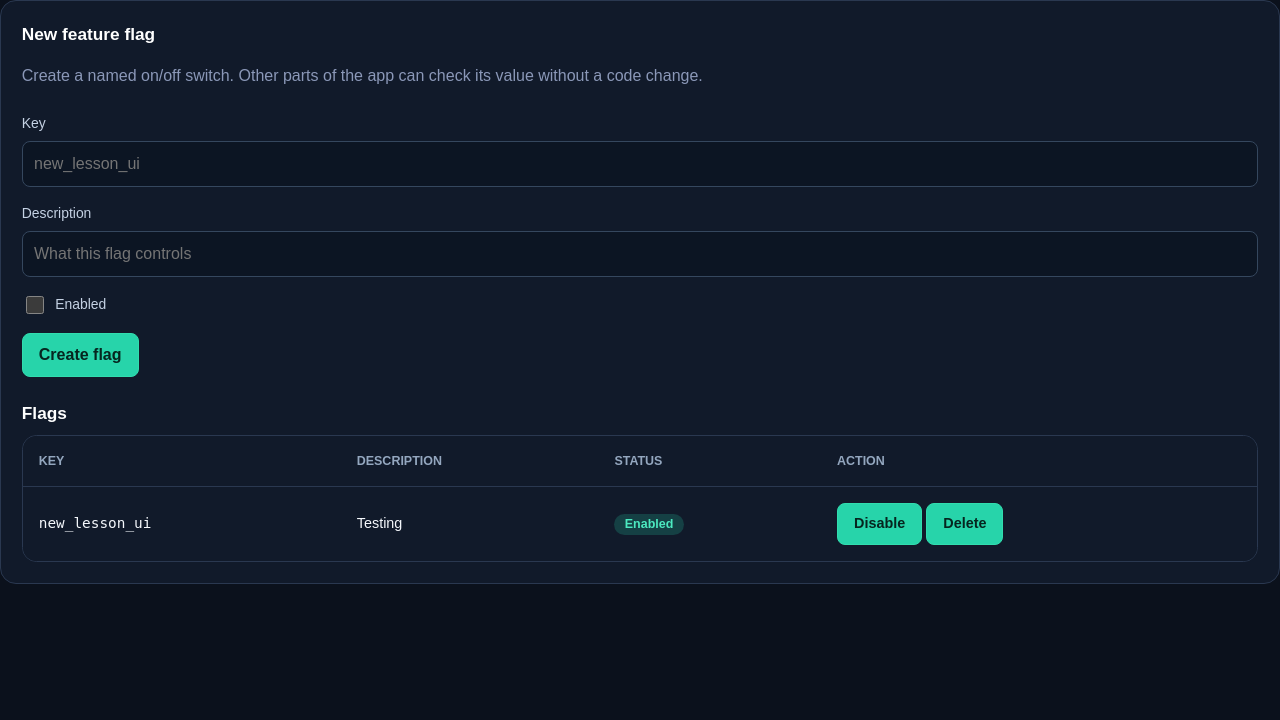
it: FeatureFlagsManager › lists an existing flag with a toggle and delete action
The width and height of the screenshot is (1280, 720).
Expected: the text "new_lesson_ui" is shown, [39,515,151,531]
Expected: the text "Testing" is shown, [341,487,598,561]
Click the button "Disable": (880, 524) [837,503,922,545]
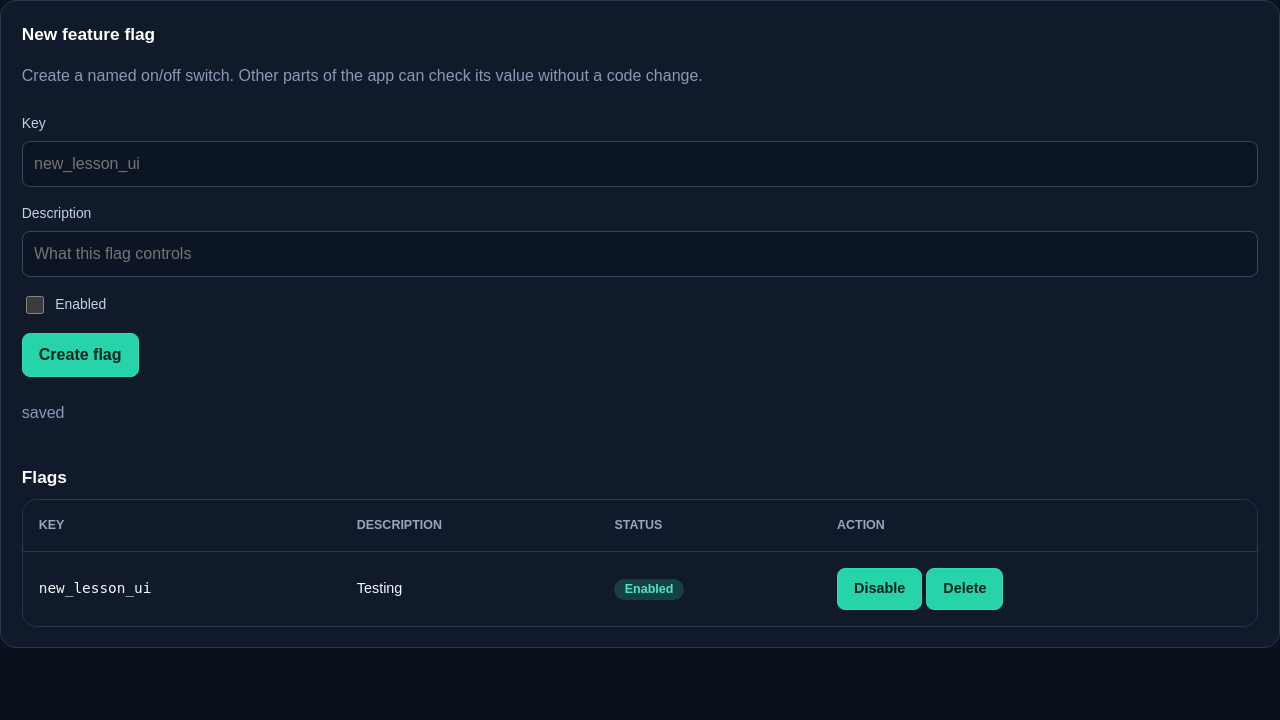
Expected: the text "new_lesson_ui" is shown, [39,580,151,596]
Expected: the message "saved" is shown, [22,404,64,421]
